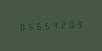five: (41, 20, 48, 31), (25, 21, 32, 31)
four: (49, 20, 56, 30)
nine: (73, 18, 80, 29)
six: (33, 20, 40, 31)
two: (57, 19, 64, 30)
zero: (17, 21, 24, 32), (65, 19, 72, 29)
